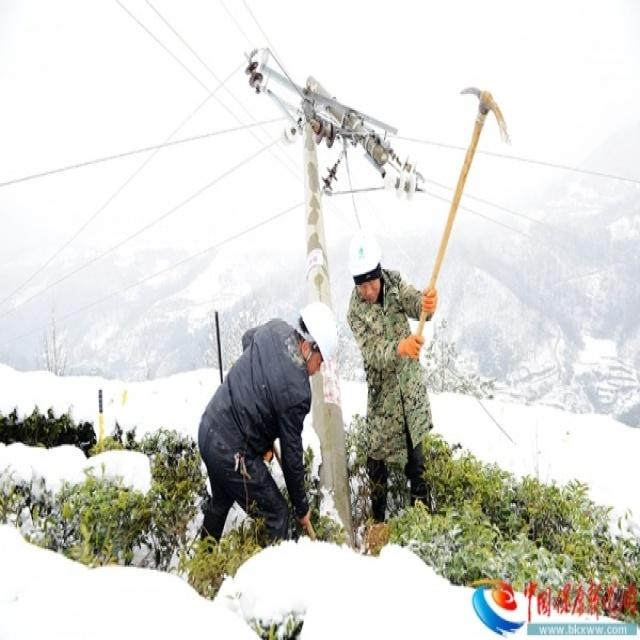helmet: (295, 402, 339, 498), (347, 307, 384, 404)
